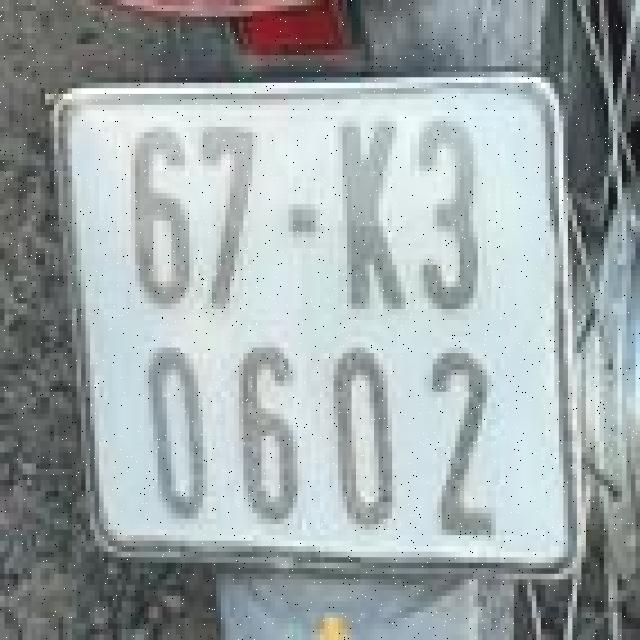0: (322, 328, 403, 538), (144, 323, 208, 532)
2: (417, 342, 502, 546)
3: (417, 108, 480, 334)
7: (221, 328, 302, 532), (194, 105, 261, 325), (122, 113, 189, 317)
K: (325, 108, 410, 322)
